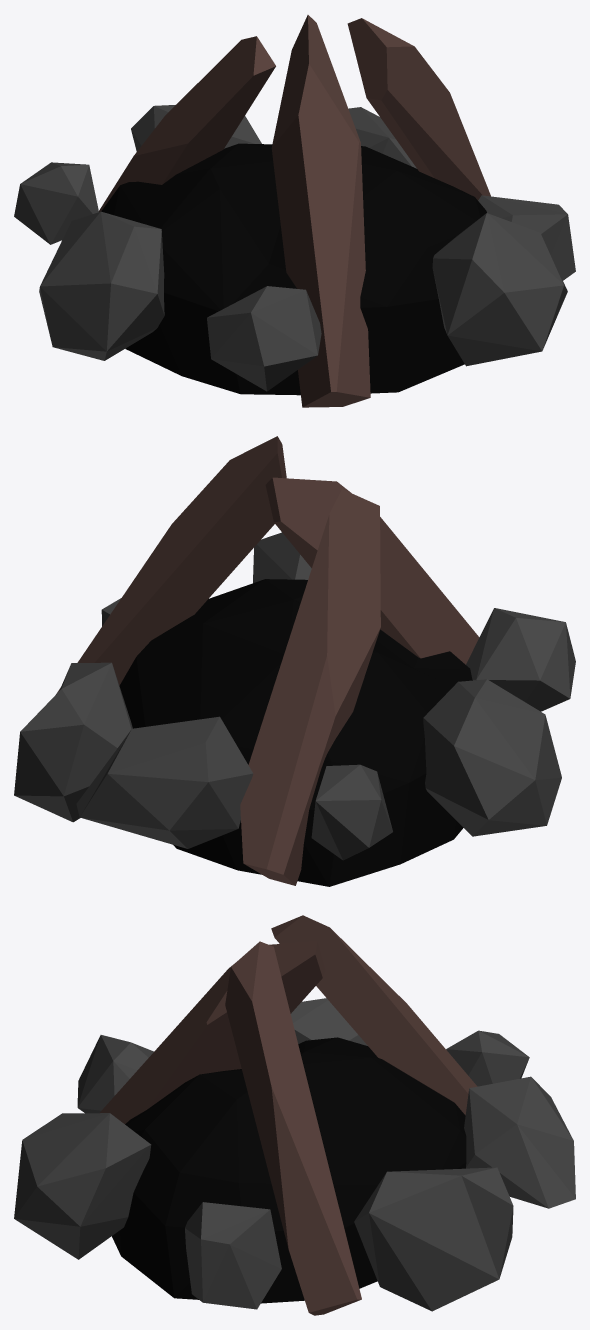
Rendered from FirePit.fbx.
3 renders of one model, top to bottom at view 1: azimuth 30°, elevation 25°; view 2: azimuth 150°, elevation 25°; view 3: azimuth 270°, elevation 25°, orthographic. The views are drawn at different scales.
Parts seen in each view (by area): view 1: FirePit; view 2: FirePit; view 3: FirePit.
Part boxes in pixels (<box>): FirePit: <box>14,15,575,407</box>; FirePit: <box>14,436,575,886</box>; FirePit: <box>14,915,575,1315</box>.
Size of the model in its own units: 0.8915 by 0.9435 by 0.5718.
